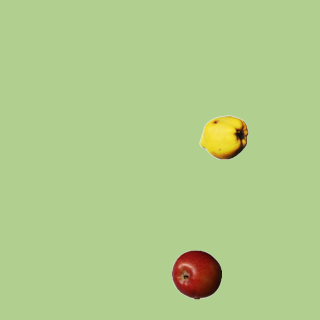Apple Braeburn: (171, 249, 221, 299)
Quince: (198, 112, 248, 162)
